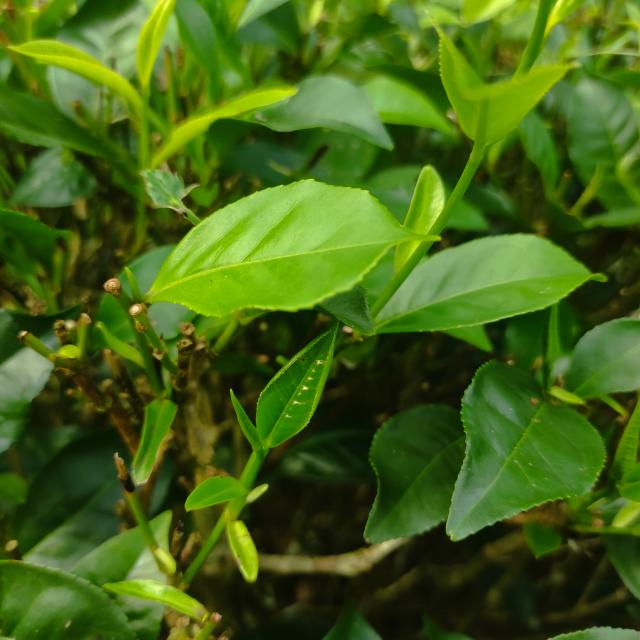unopened_leaf: (226, 382, 269, 458), (117, 258, 147, 314)
